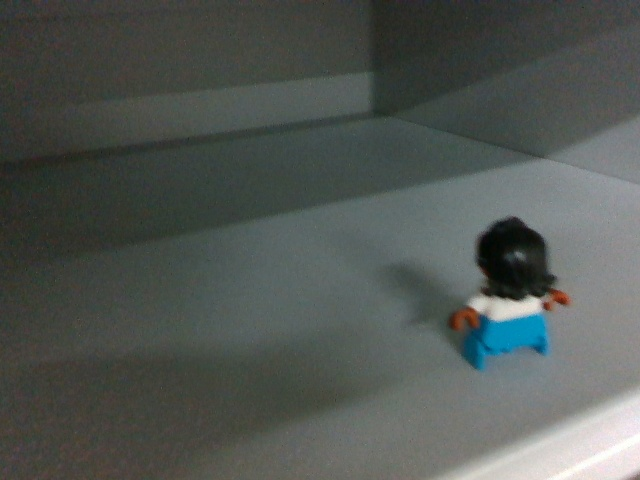people: (445, 212, 574, 373)
